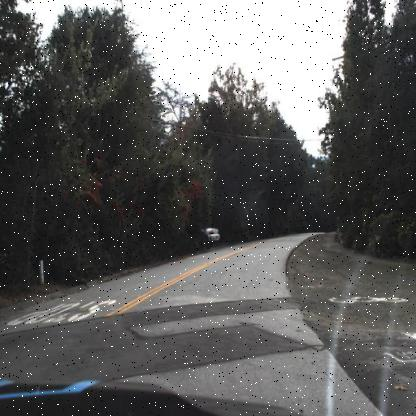car: (204, 226, 223, 245)
